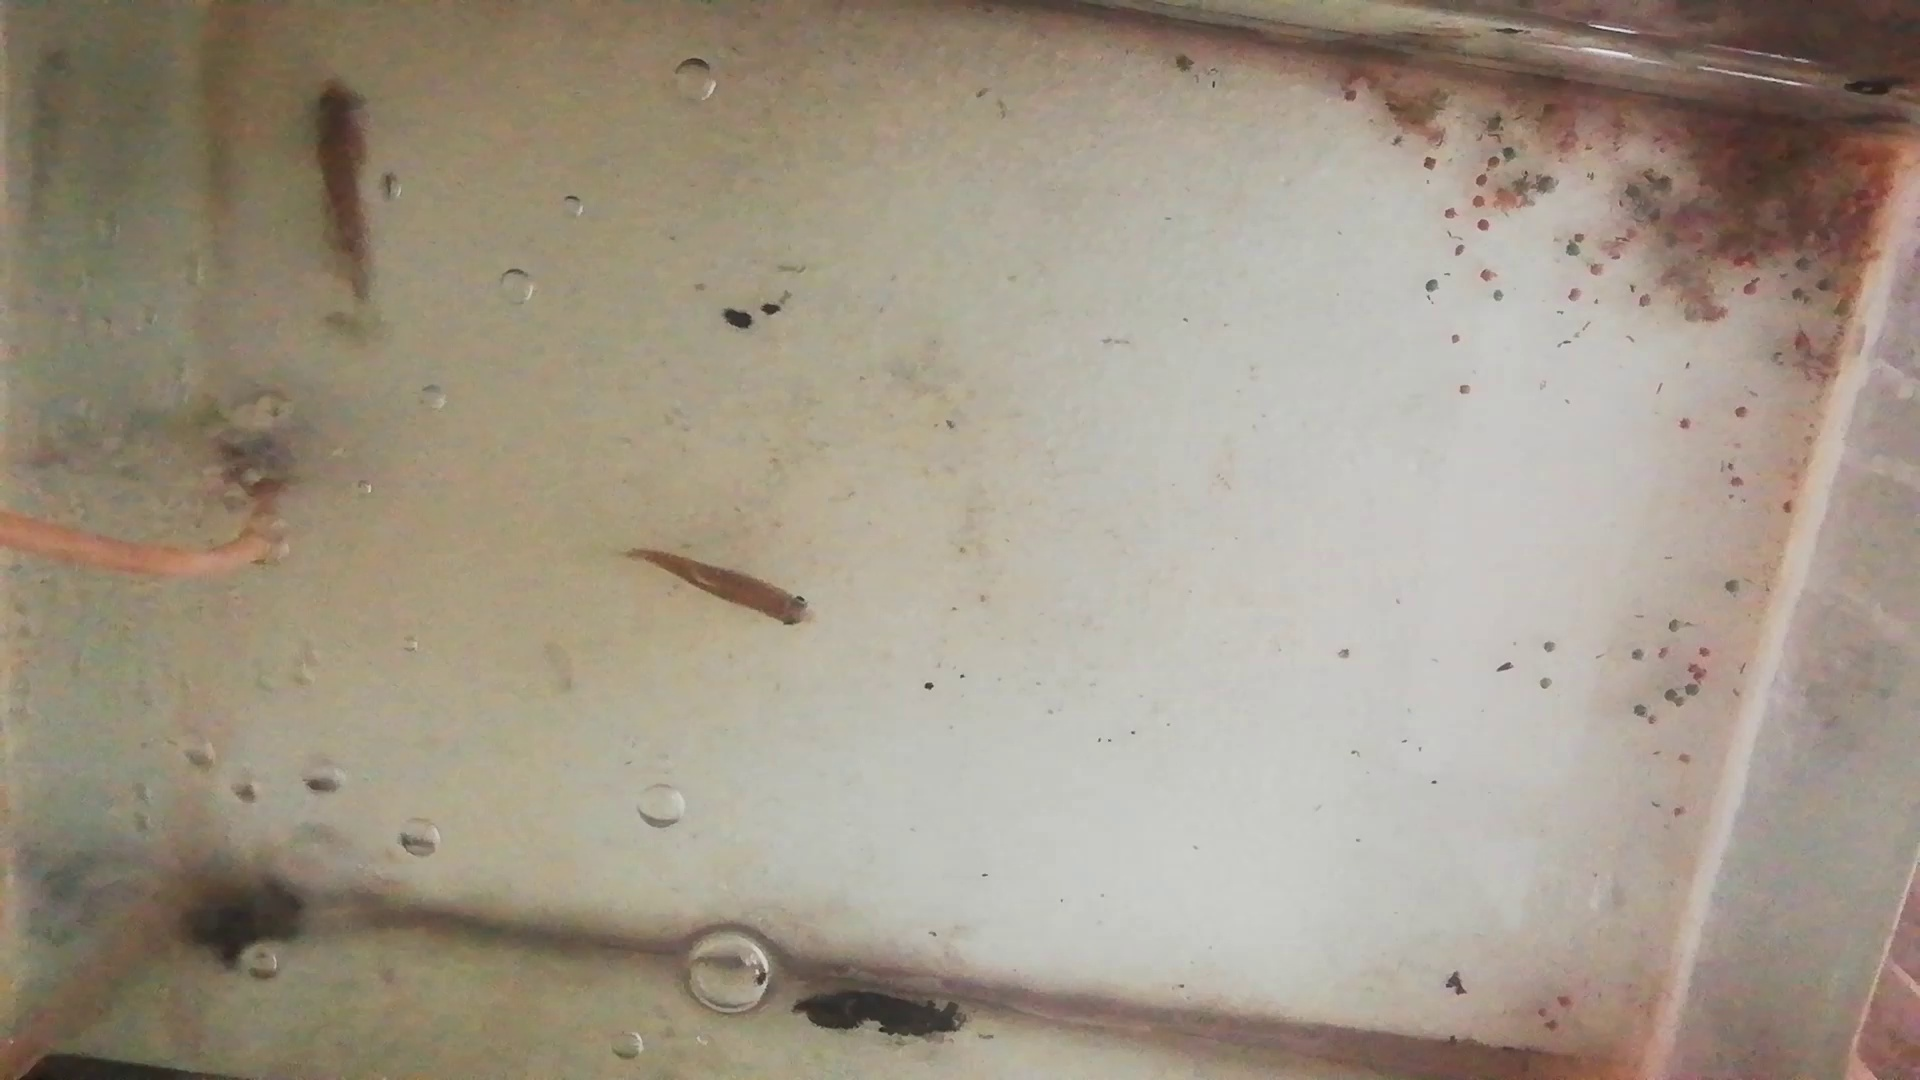fish: (615, 539, 822, 633), (313, 76, 382, 301)
